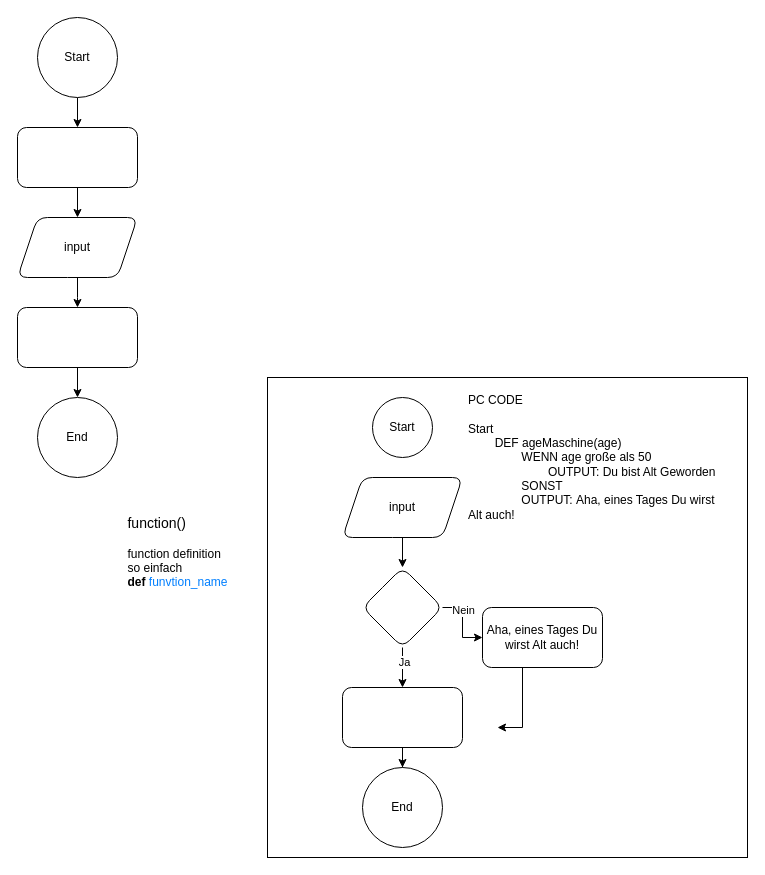
Image size: 765x875. Some labels were removed from this diagram. The box of each missing label's shape, as (x1, y1, x2, y2) in pixels:
ageMaschine: (16, 306, 138, 368)
Du bist Alt Geworden: (342, 686, 462, 748)
over 50: (362, 566, 442, 648)
print: wie Alt bist Du?: (16, 126, 138, 188)
